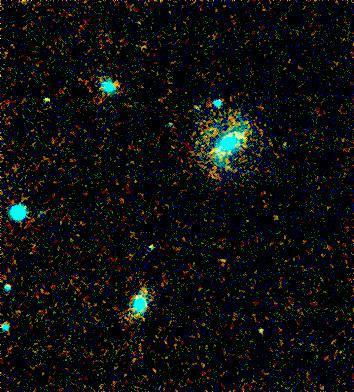star: (247, 315, 277, 345)
